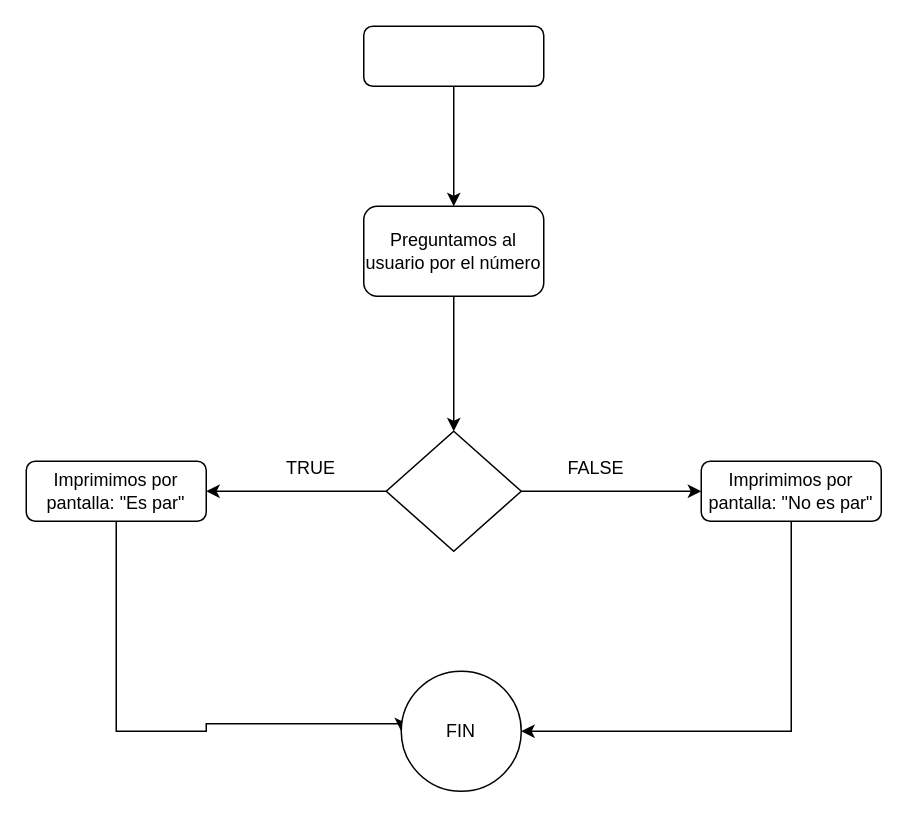
This 908x818 diagram has some shape labels left out. Each missing label, with the box of its shape:
INICIO: (362, 25, 544, 86)
resto==0: (385, 430, 521, 551)
